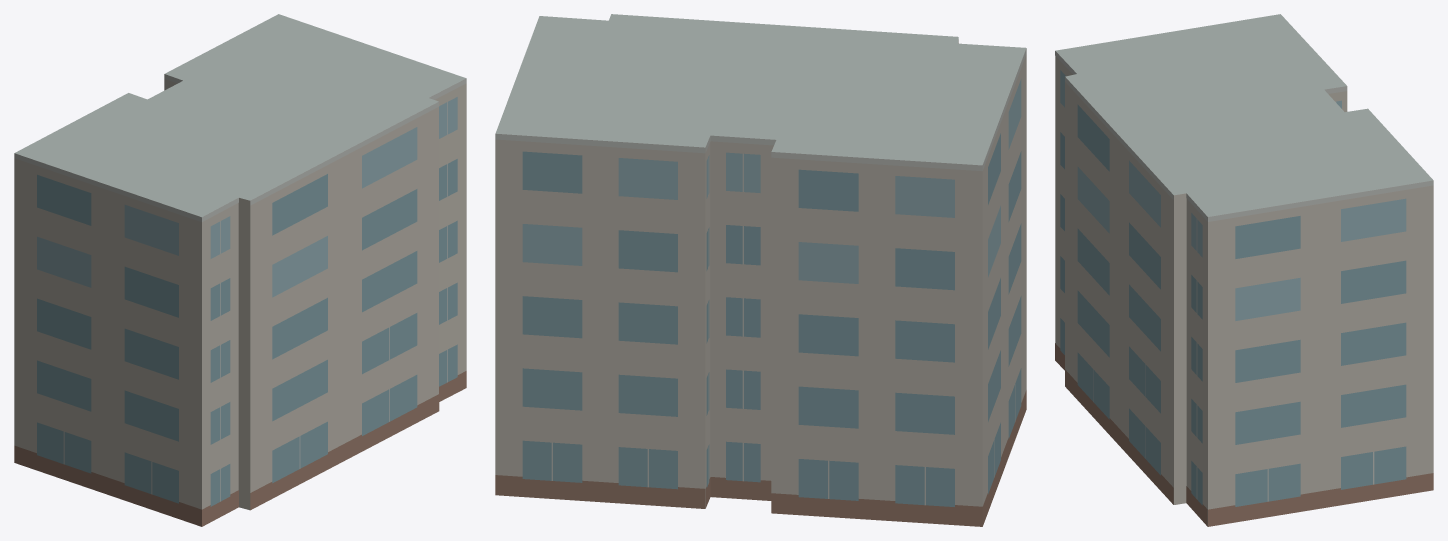
File: survey-upis-32755339.glb
3 renders of one model, left to right at view 1: azimuth 30°, elevation 25°; view 2: azimuth 150°, elevation 25°; view 3: azimuth 270°, elevation 25°, orthographic. The views are drawn at different scales.
Visible parts, largest first — view 1: survey-upis-32755339.tmp; view 2: survey-upis-32755339.tmp; view 3: survey-upis-32755339.tmp.
Boxes of the visible parts, x1=… form: survey-upis-32755339.tmp: x1=14, y1=14, x2=466, y2=526; survey-upis-32755339.tmp: x1=495, y1=14, x2=1026, y2=526; survey-upis-32755339.tmp: x1=1055, y1=14, x2=1433, y2=526.
Bounding box in the file's own units: 21.45 × 15.25 × 16.89.
